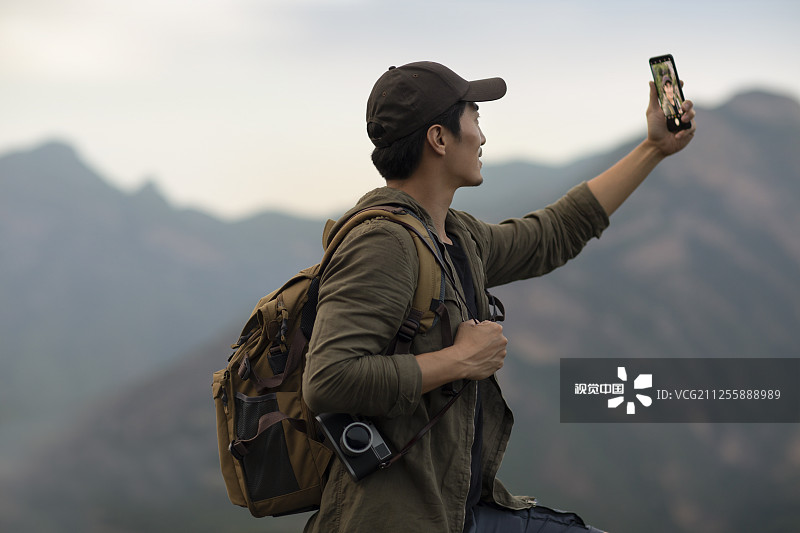taking photos: (615, 51, 710, 170)
